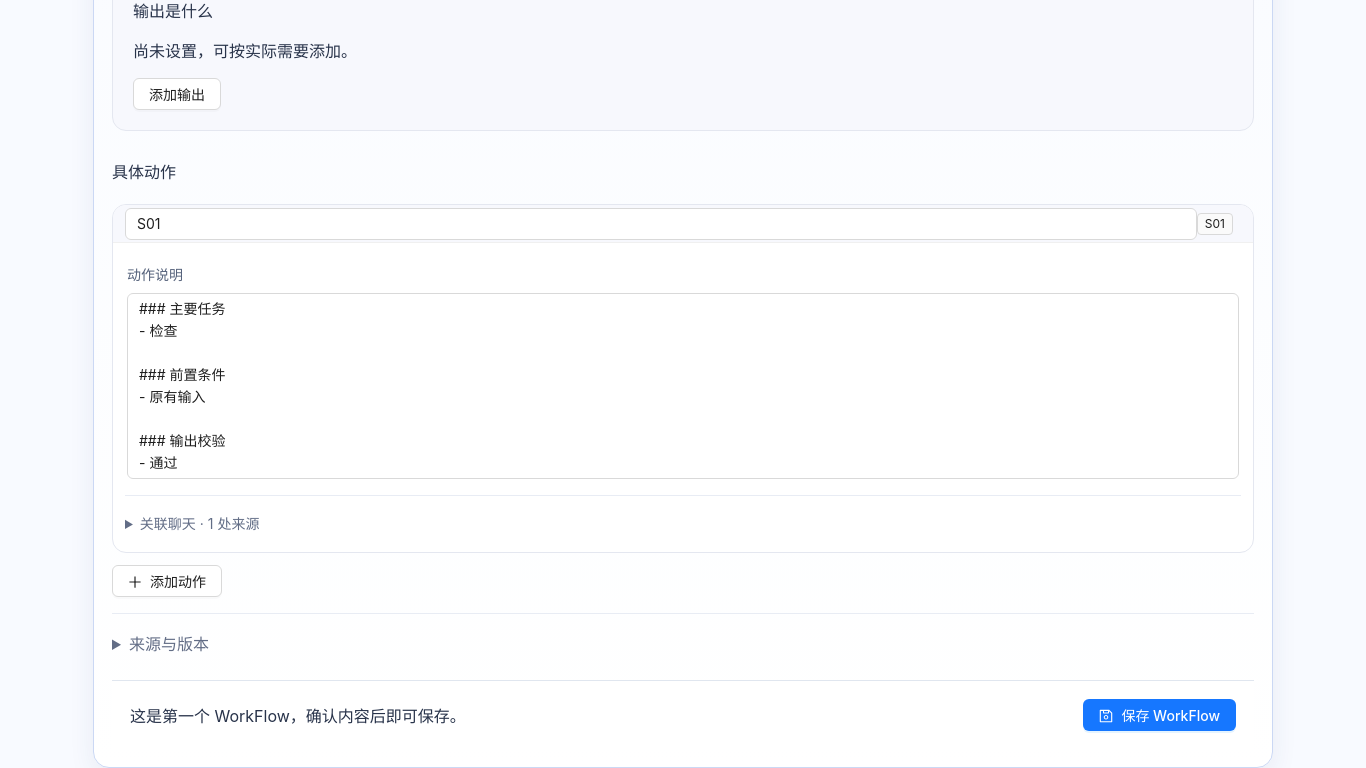
Test: 动作卡片只保留名称说明与关联聊天，合并旧版内容
This screenshot has width=1366, height=768.
(page scrolled)
Expected: the text "动作说明" is shown, [127, 266, 183, 283]
Click the heading "关联聊天 · 1 处来源" at (200, 524), box [140, 515, 259, 532]
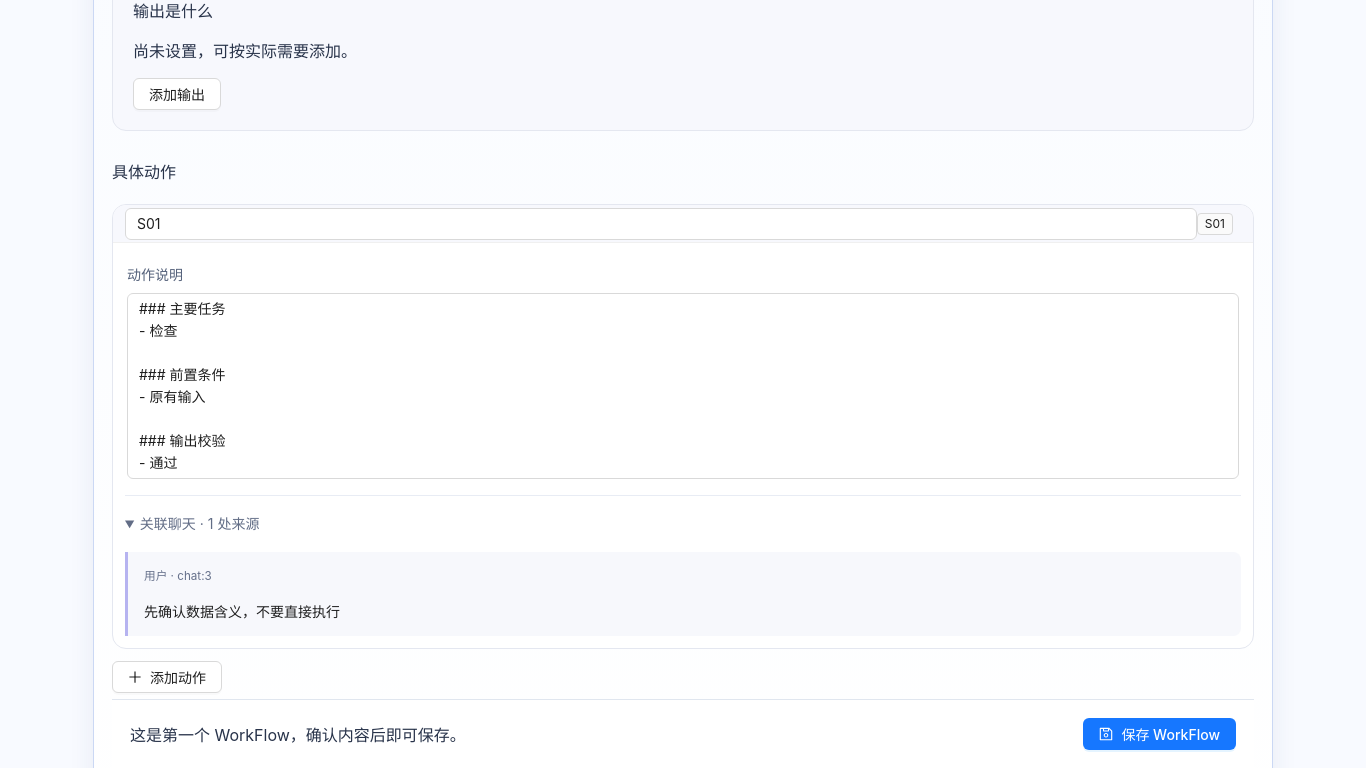
Result: the text "先确认数据含义，不要直接执行" is shown at [144, 603, 340, 620]
